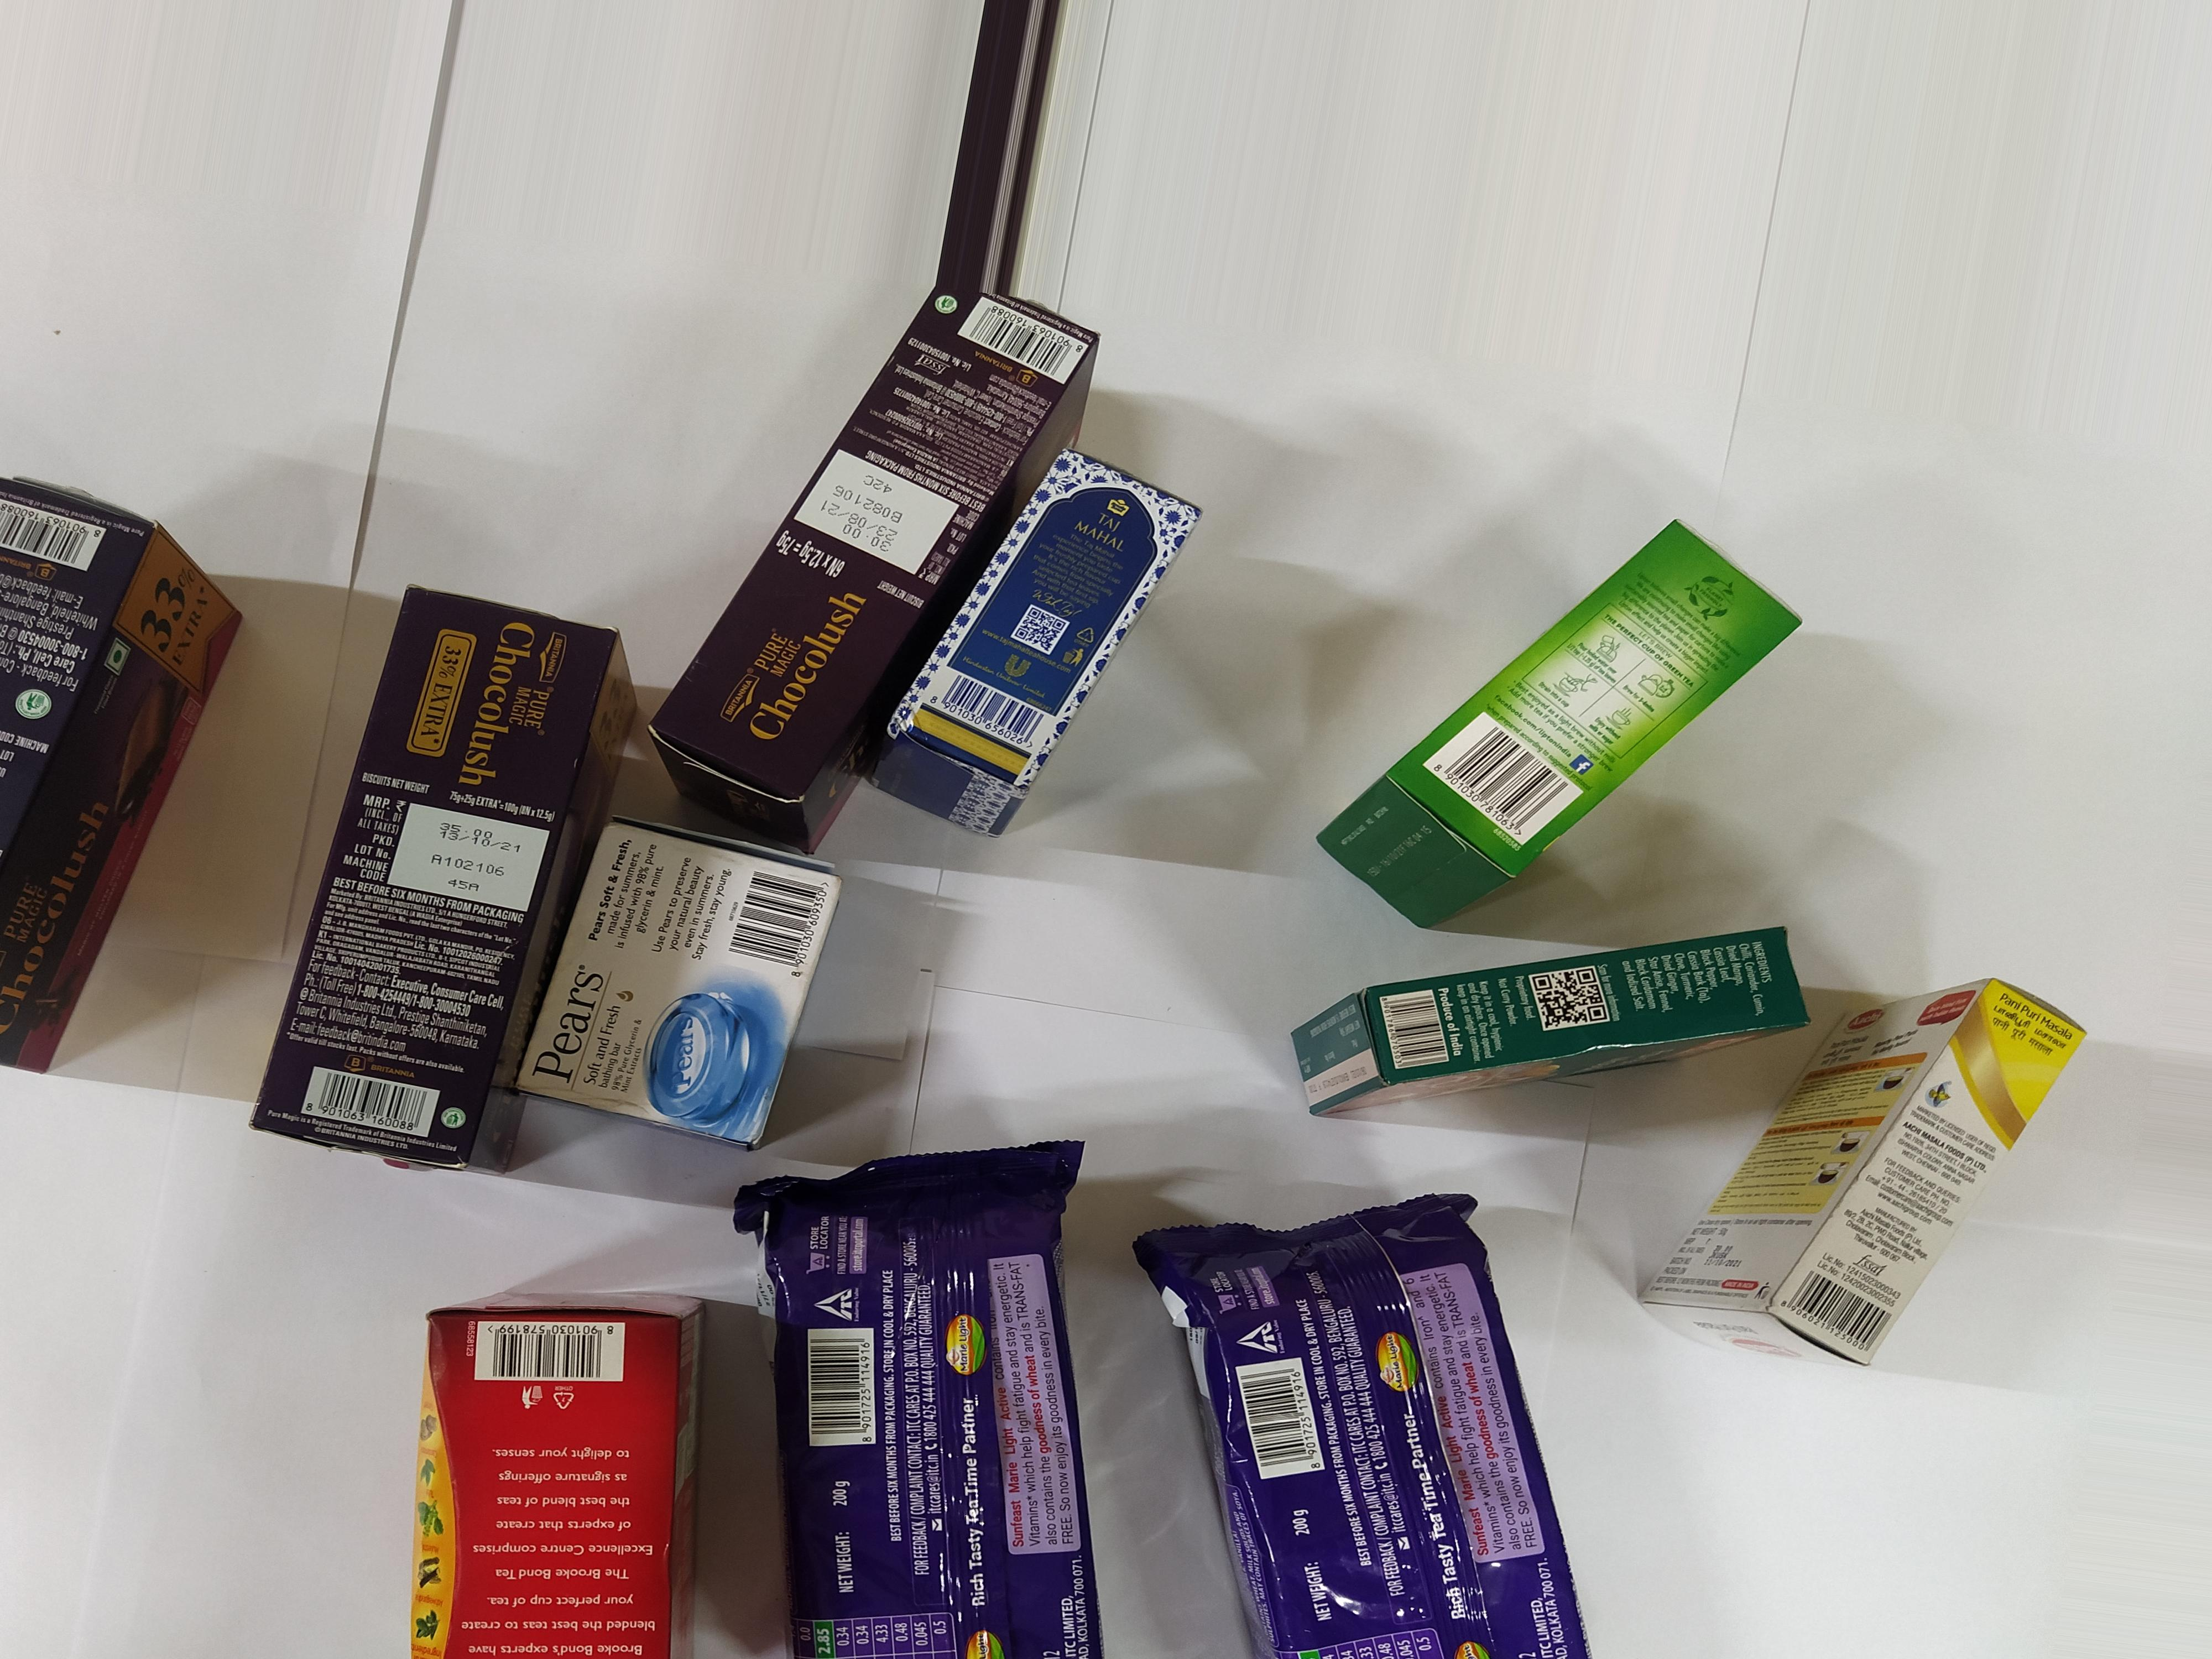Bar_code: (1413, 690, 1588, 870), (939, 291, 1120, 404), (449, 1300, 637, 1392), (1768, 1249, 1902, 1378), (716, 849, 829, 999), (796, 1312, 890, 1469), (287, 1058, 448, 1147), (1235, 1352, 1338, 1485), (913, 680, 1054, 763), (0, 490, 118, 582), (1378, 985, 1461, 1086)
Item: (1301, 479, 1871, 936), (1111, 1194, 1616, 1659), (716, 1155, 1162, 1659), (265, 540, 583, 1225), (658, 230, 988, 856), (1683, 1000, 2099, 1389), (0, 471, 235, 1122), (394, 1272, 728, 1657), (892, 467, 1207, 836), (543, 821, 855, 1182), (1256, 936, 1829, 1115)
QR_code: (1514, 950, 1627, 1035), (1012, 599, 1073, 660)
